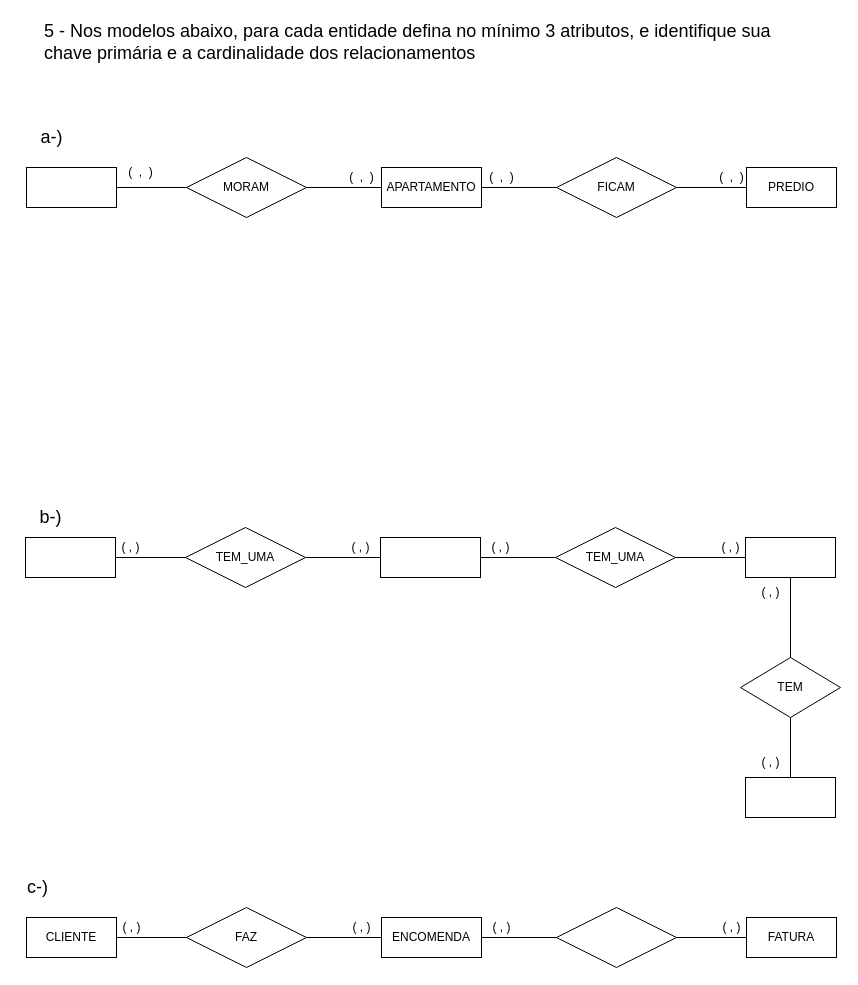
Image size: 858x985. Some labels were removed from this diagram. The box of each missing label's shape, as (x1, y1, x2, y2) in pixels:
ALUNO: (744, 776, 836, 818)
CURSO: (24, 536, 116, 578)
DISCIPLINA: (380, 536, 480, 578)
GERA: (556, 906, 676, 968)
PESSOA: (26, 166, 116, 208)
TURMA: (744, 536, 836, 578)
